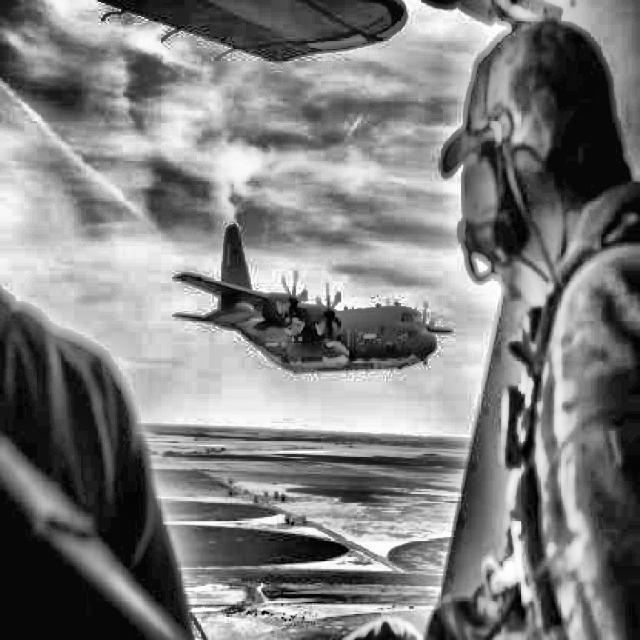C130: (172, 223, 454, 375)
